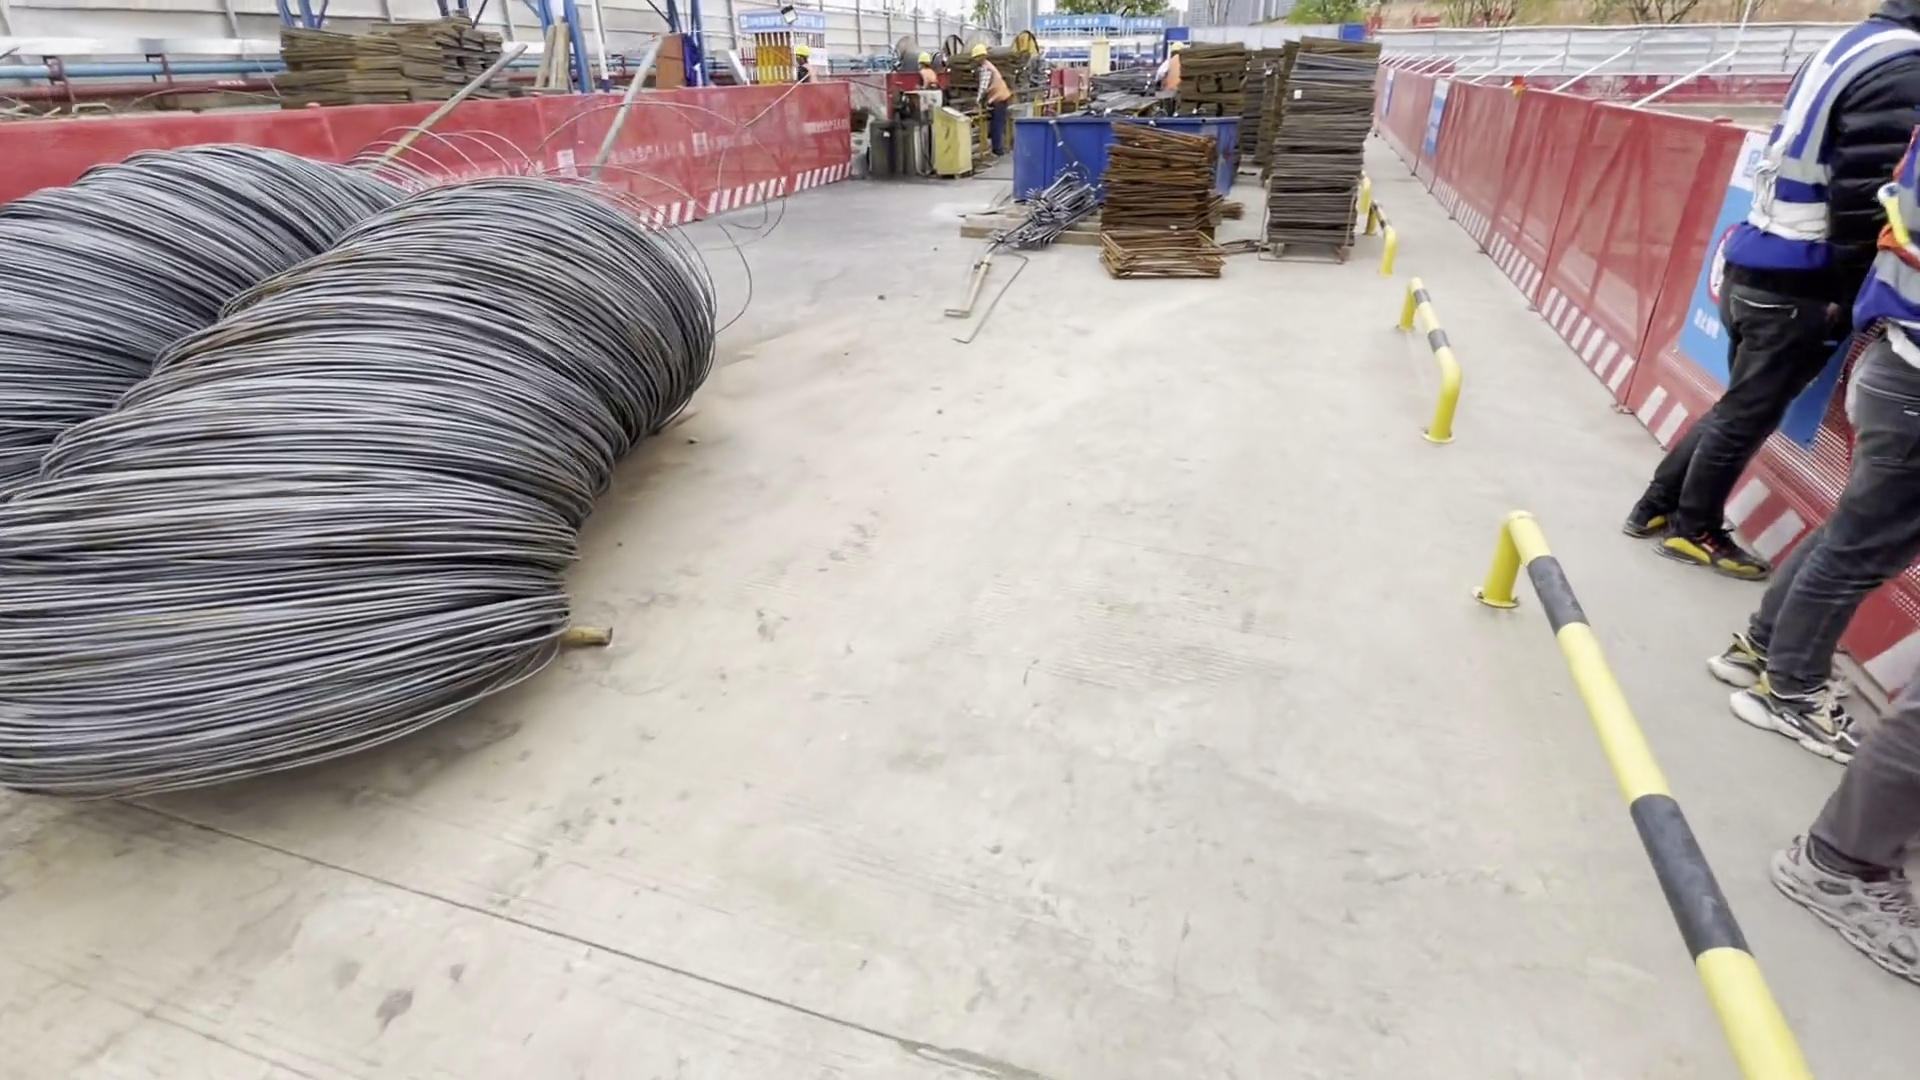helmet: (972, 42, 986, 56), (796, 46, 809, 56), (919, 53, 930, 62)
person: (1634, 1, 1911, 587), (1719, 141, 1920, 776), (967, 41, 1012, 157), (1152, 42, 1179, 114), (791, 45, 819, 83), (916, 53, 935, 89)
vest: (1727, 17, 1882, 283), (981, 63, 1009, 105), (921, 69, 936, 88)
